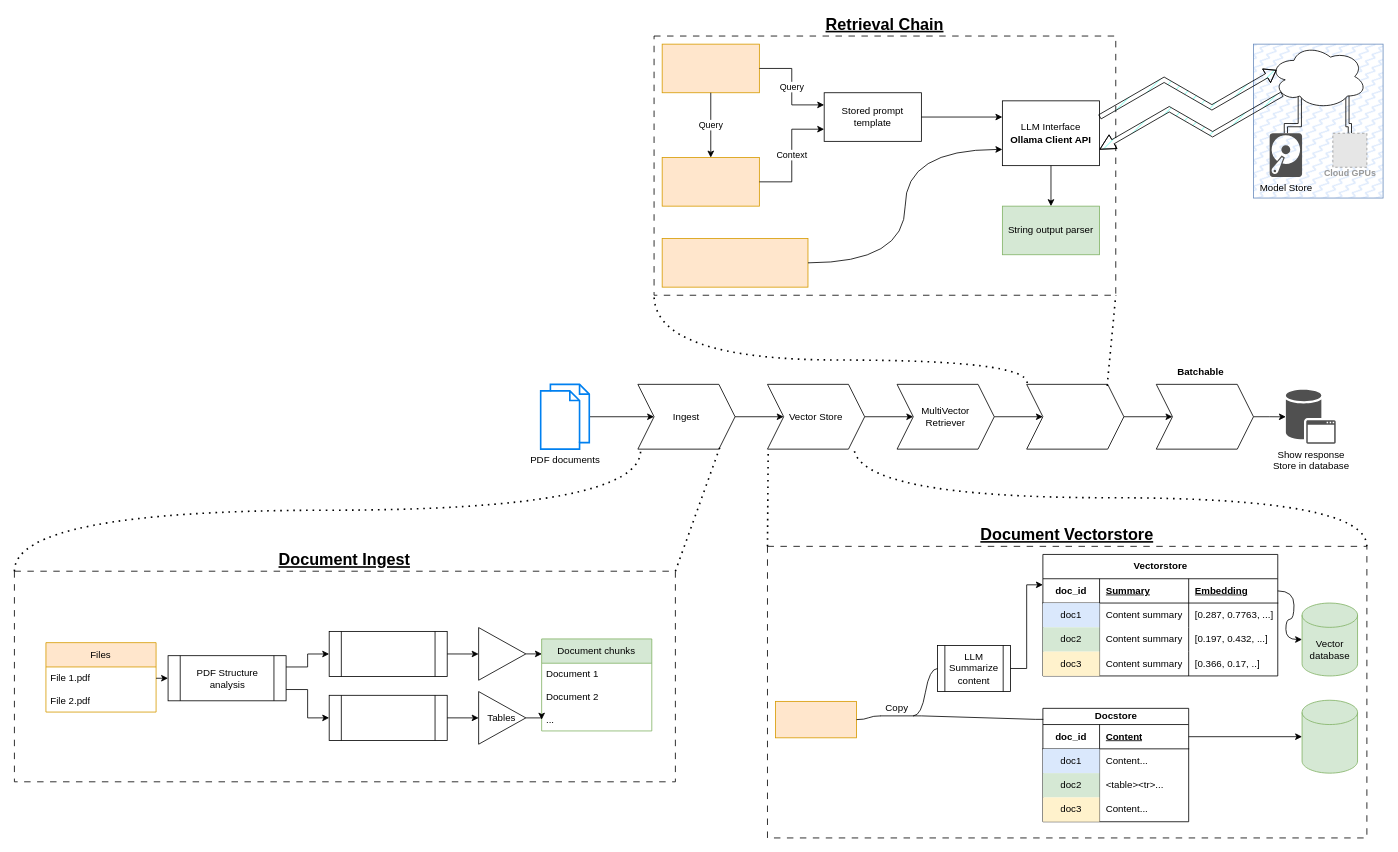
Image size: 1398x852. Some labels were removed from this diagram. Grey dashed boxes stand in for pictures. Each missing label, with the centre of its shape:
"1. Detect tables 2. Convert to HTML" belongs at (387,717).
"Chunking: 1. by title 2. Char count" belongs at (387,654).
"Filter only New documents" belongs at (816,719).
"Key/Value store" belongs at (1329,736).
"LLM" belongs at (1075,416).
"Model config {LLaVA, http://ollama:11434/}" belongs at (734,262).
"Ollama Server" belongs at (1318,76).
"Prompt parameters (context, query)" belongs at (710,68).
"Query Prompt" belongs at (1204,416).
"Retrieval context generator" belongs at (710,181).
"Text" belongs at (502,653).
